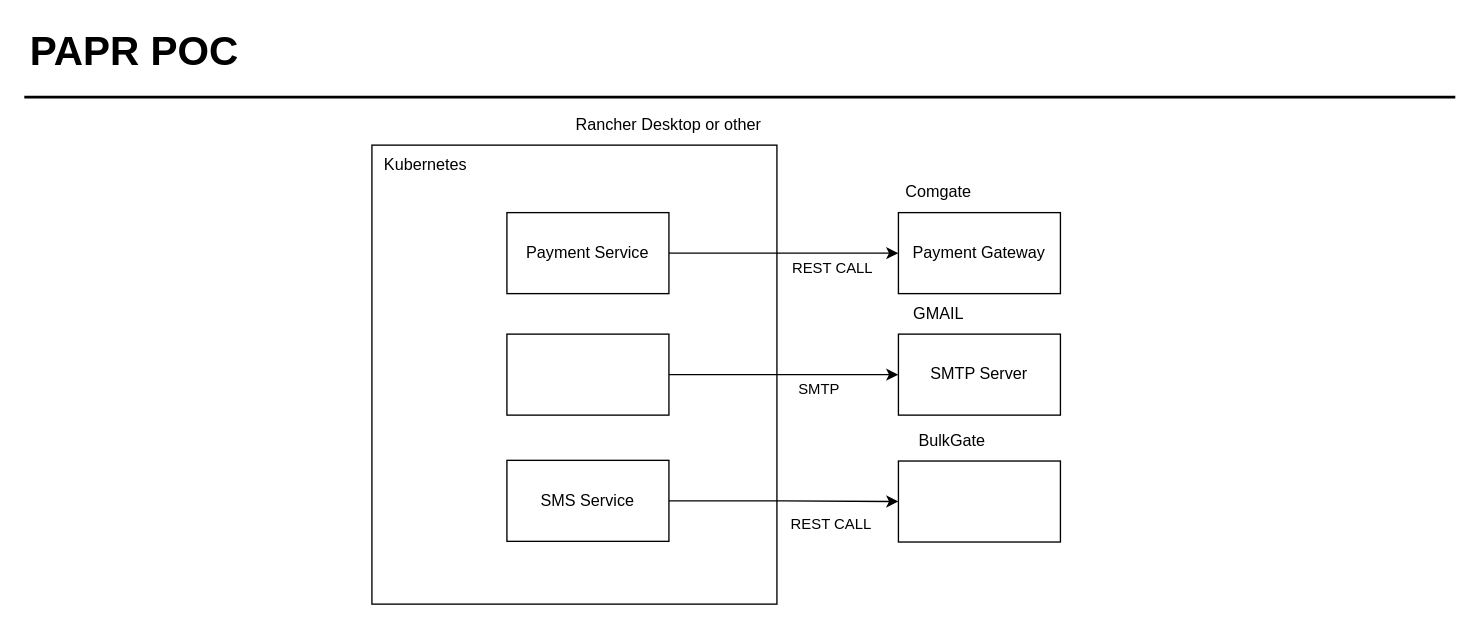
Some shapes in this 1480 by 628 pixel diagram are drawn without their labels. The shapes that lost their labels are listed below. From the top down, each one's centre as x and y in pixels, then its label:
pixel 587 374: Email Service
pixel 978 501: SMS Gateway
